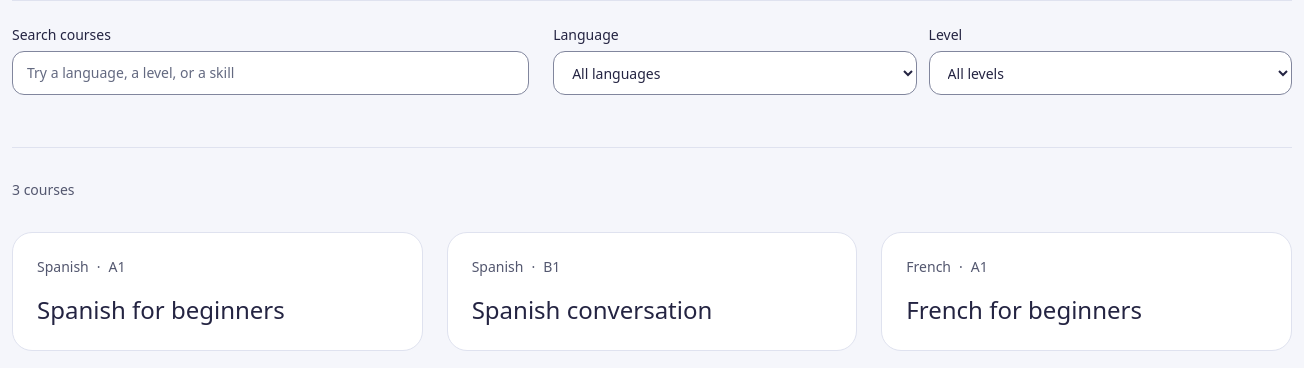
calm discovery and recovery › restores browsing after a refused search and keeps the query available to edit
Type "spanish" into the search field at (271, 73), box [12,51,529,95]
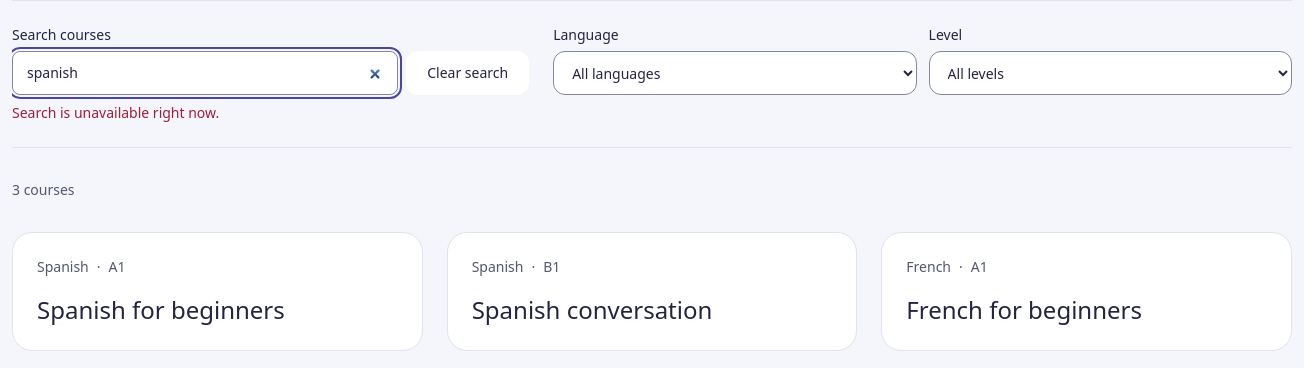
Check: the text "Search is unavailable right now." is shown, box [12,103,219,122]
